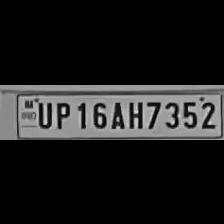1: (72, 98, 88, 130)
2: (198, 97, 216, 129)
3: (161, 97, 179, 129)
5: (179, 97, 197, 128)
6: (89, 98, 107, 130)
7: (144, 97, 160, 129)
A: (109, 98, 126, 130)
H: (125, 97, 143, 129)
P: (52, 98, 72, 130)
U: (34, 98, 52, 128)
